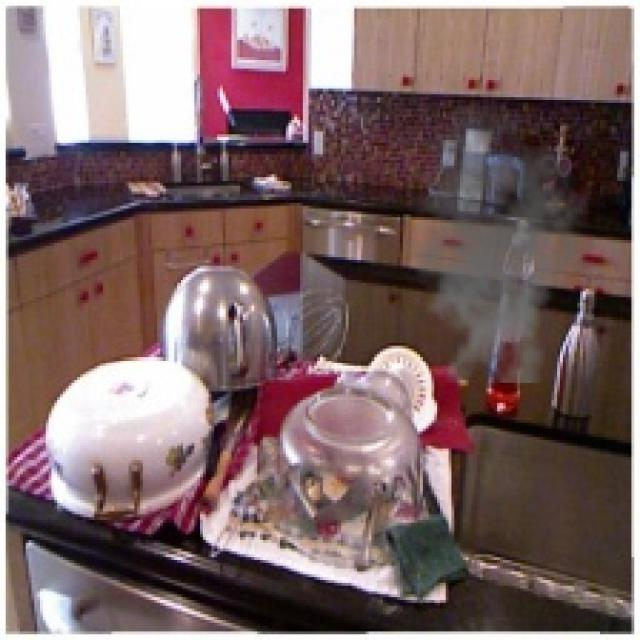smoke: (392, 100, 592, 383)
